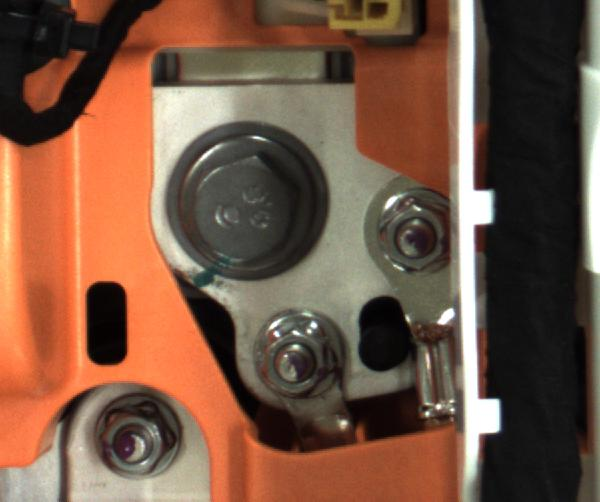nut_b: (159, 116, 328, 287)
screw_s: (362, 186, 476, 296), (243, 305, 338, 405), (89, 397, 196, 482)
